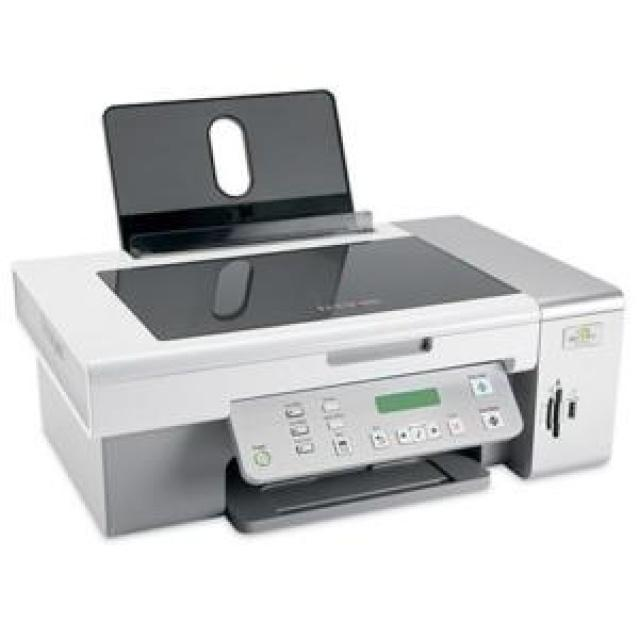Printer: (11, 87, 624, 539)
